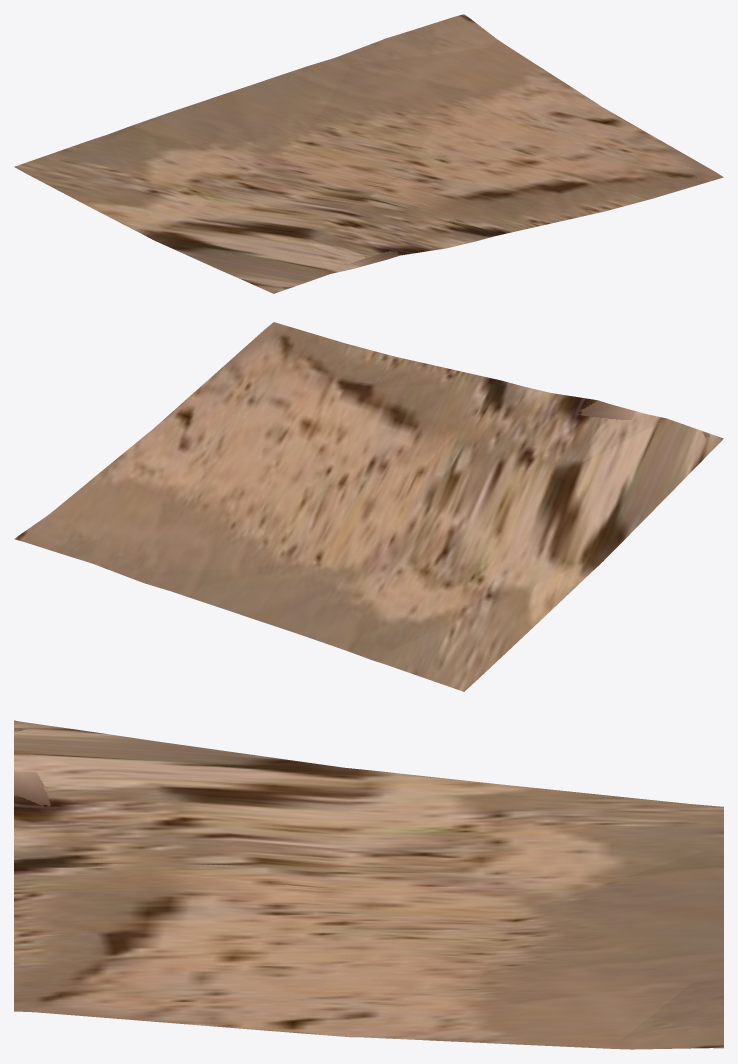
3 views of the same model, one above another, from view 1: azimuth 30°, elevation 25°; view 2: azimuth 150°, elevation 25°; view 3: azimuth 270°, elevation 25° (orthographic). The views are drawn at different scales.
Bounding box in the file's own units: 1.04 × 0.1567 × 1.04.
3 materials, 3 textured.
